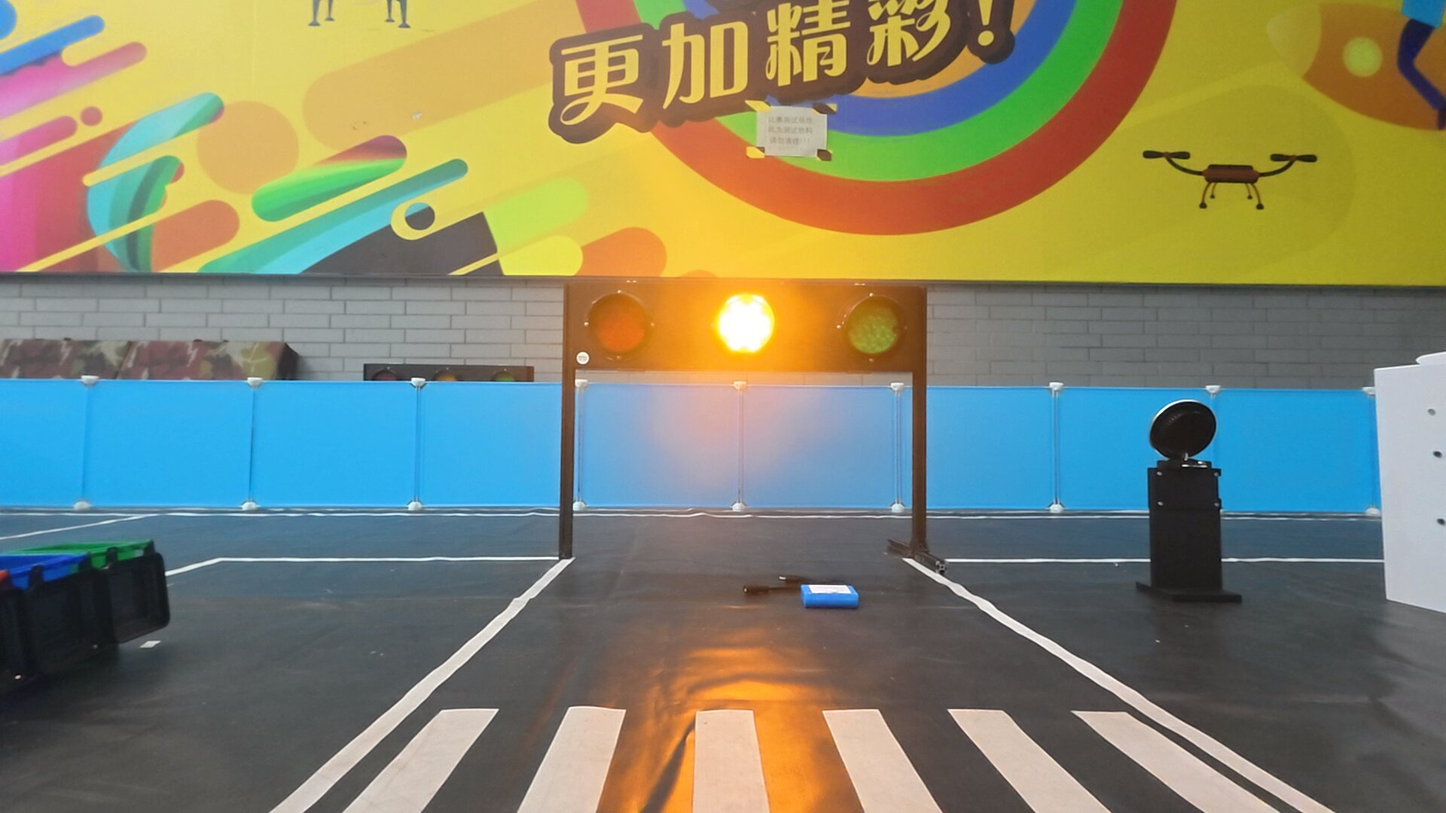stop: (712, 289, 782, 357)
